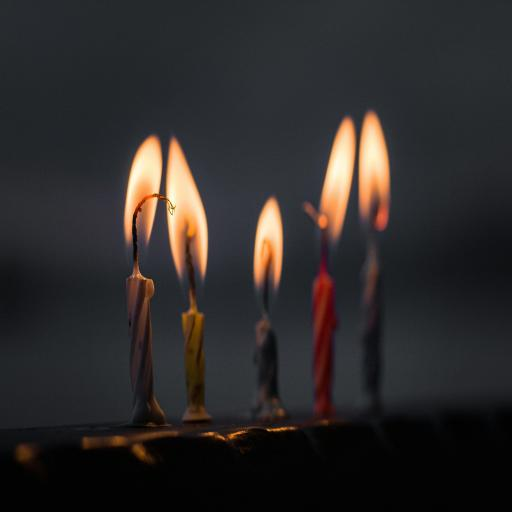candlelight: (98, 132, 174, 424), (160, 129, 219, 422), (356, 102, 406, 418), (238, 171, 296, 425), (310, 91, 353, 426)
